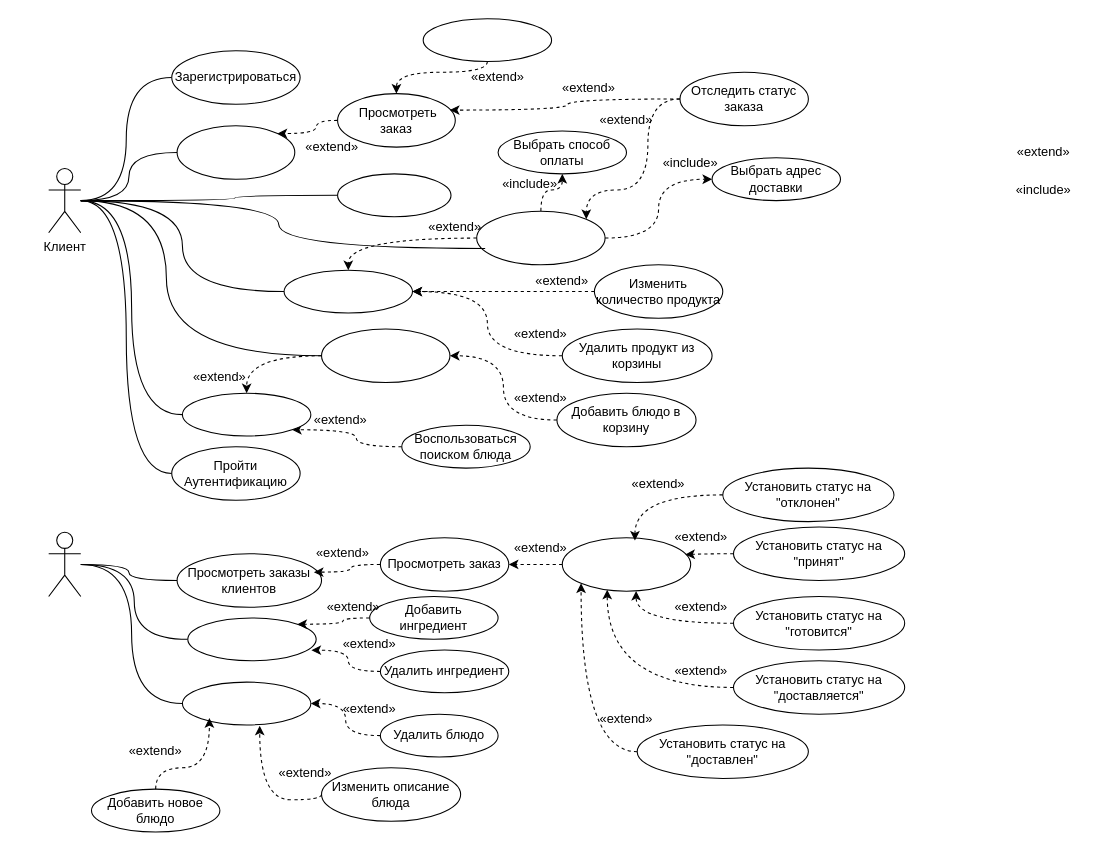
The diagram is 1095 pixels wide and 851 high, and some of its shapes have lost their labels. Each missing label, with the centre of its shape:
Администратор: the point at 64,564
Выйти из аккаунта: the point at 394,195
Измененить статус заказа: the point at 626,564
Офрмить заказ: the point at 540,237
Оценить блюдо: the point at 487,40
Просмотр блюд: the point at 246,703
Просмотреть ингредиент: the point at 251,639
Просмотреть историю заказов: the point at 235,152
Просмотреть корзину: the point at 347,291
Просмотреть меню: the point at 246,414
Просмотреть странцу продукта: the point at 385,355
